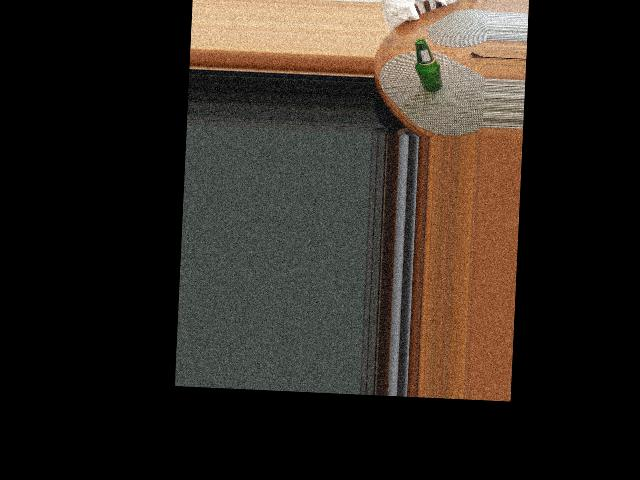beer: (414, 39, 444, 92)
